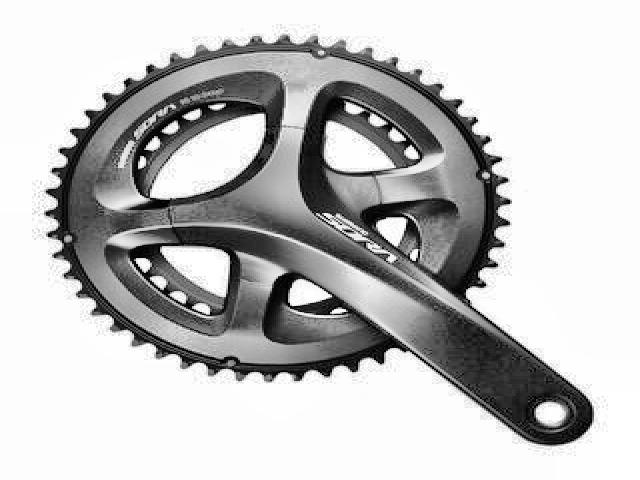cranks_set: (43, 34, 597, 447)
